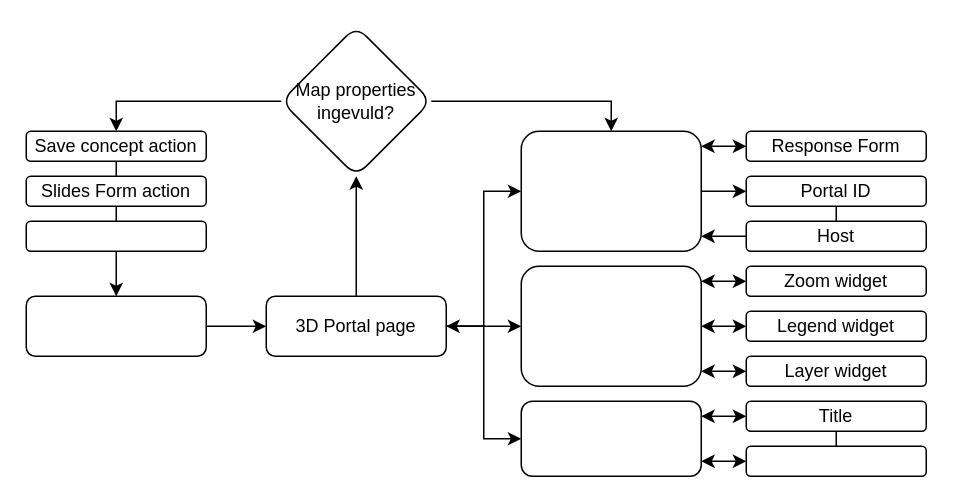
Some shapes in this 953 by 503 pixel diagram are drawn without their labels. The box of each missing label's shape, as (x1, y1, x2, y2) in pixels:
Description: (745, 445, 926, 476)
Map Properties: (520, 130, 701, 251)
Map widgets: (520, 265, 701, 386)
Portal description: (520, 400, 701, 476)
Publish action: (25, 220, 206, 251)
Wagtail: (25, 295, 206, 356)
